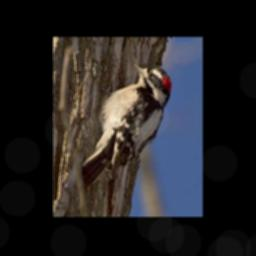Woodpecker: (81, 63, 173, 188)
